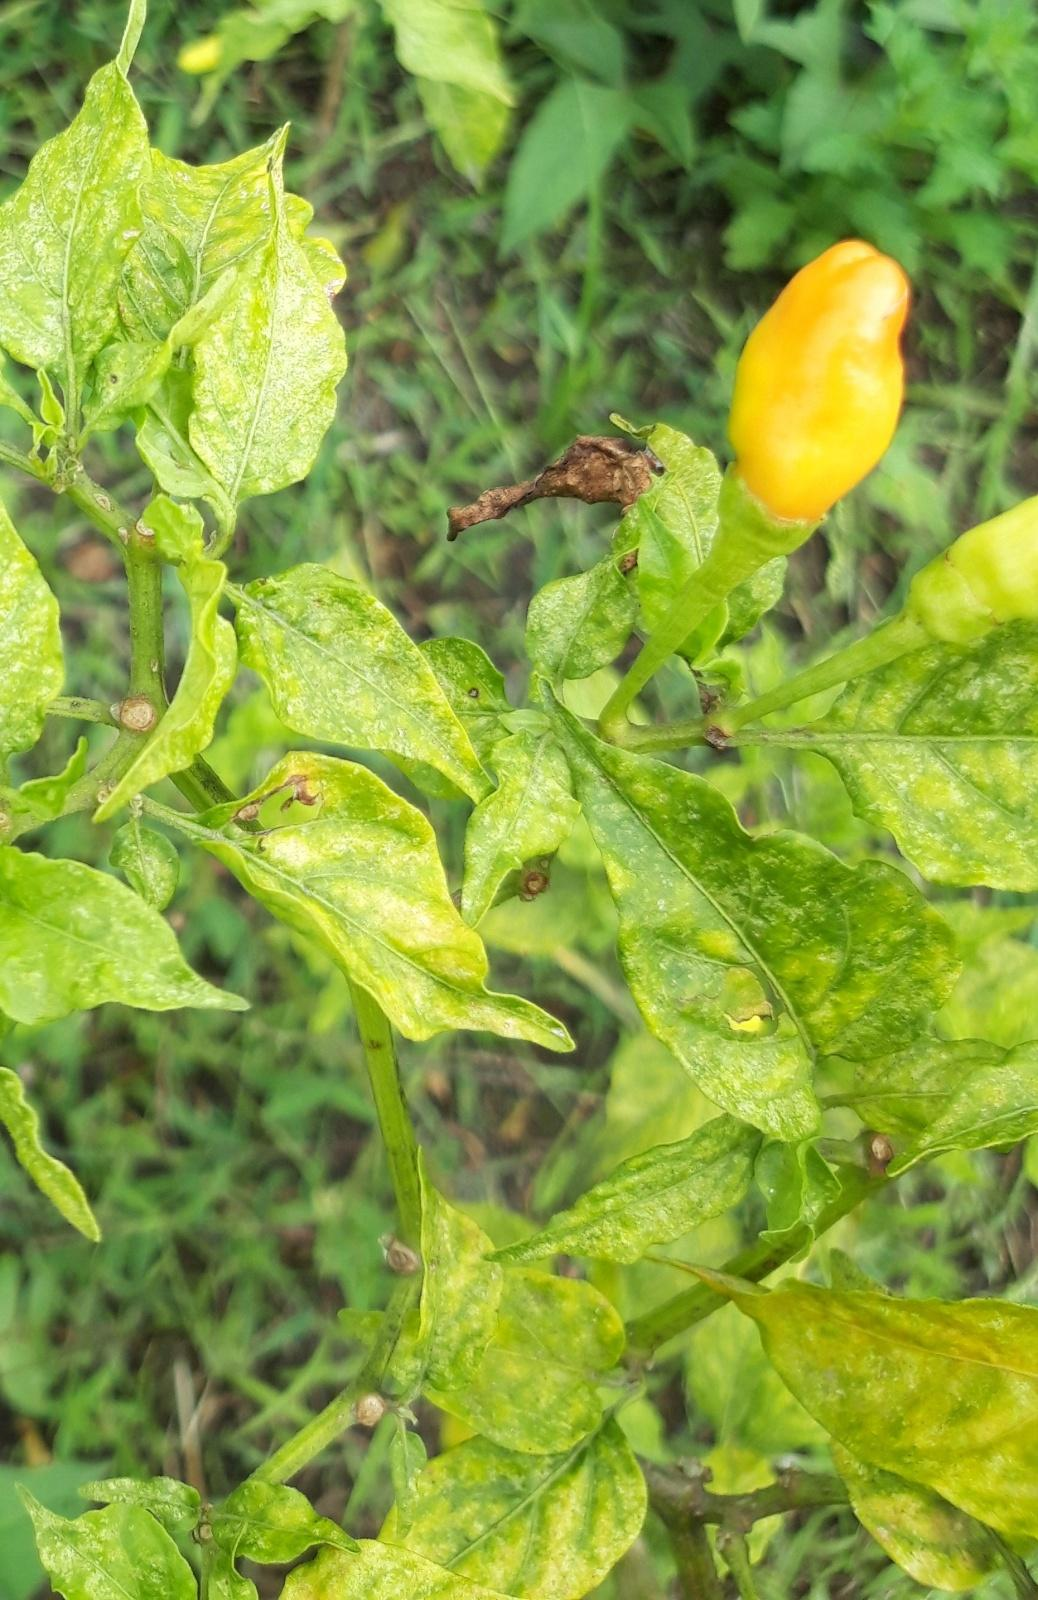cabai_normal: (727, 240, 903, 526), (937, 490, 1038, 636)
